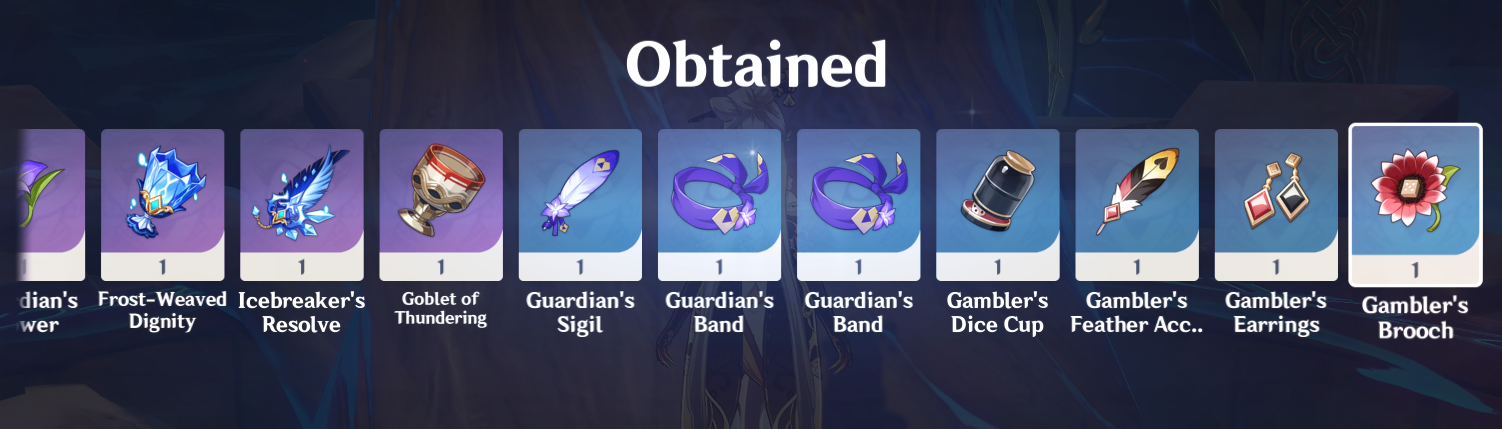3 star artifact: (1343, 120, 1490, 296), (650, 118, 792, 288), (513, 118, 649, 290), (790, 118, 927, 287), (930, 120, 1064, 291), (1069, 123, 1207, 287), (1212, 124, 1344, 288)
4 star artifact: (373, 120, 514, 290), (96, 120, 232, 287), (234, 123, 369, 290)
